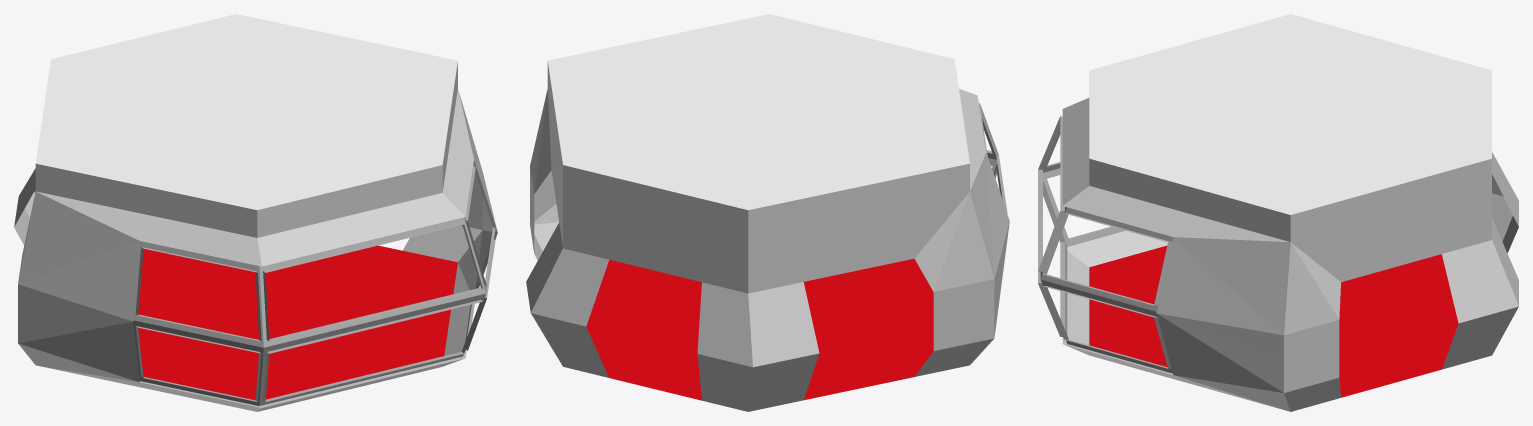
The model's file is control-and-navigation.fbx.
3 views of the same model, side by side, from view 1: azimuth 30°, elevation 25°; view 2: azimuth 150°, elevation 25°; view 3: azimuth 270°, elevation 25° (orthographic). The views are drawn at different scales.
Visible parts, largest first — view 1: Control & Navigation; view 2: Control & Navigation; view 3: Control & Navigation.
Part boxes in pixels (bbox=[...]): Control & Navigation: bbox=[14, 14, 497, 411]; Control & Navigation: bbox=[526, 14, 1009, 411]; Control & Navigation: bbox=[1038, 14, 1518, 411].
Size of the model in its own units: 1750 by 726 by 1608.
